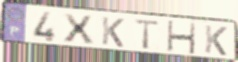4: (31, 10, 57, 43)
H: (166, 20, 197, 56)
K: (100, 15, 126, 49), (203, 24, 229, 57)
T: (133, 18, 162, 50)
X: (61, 12, 96, 45)
